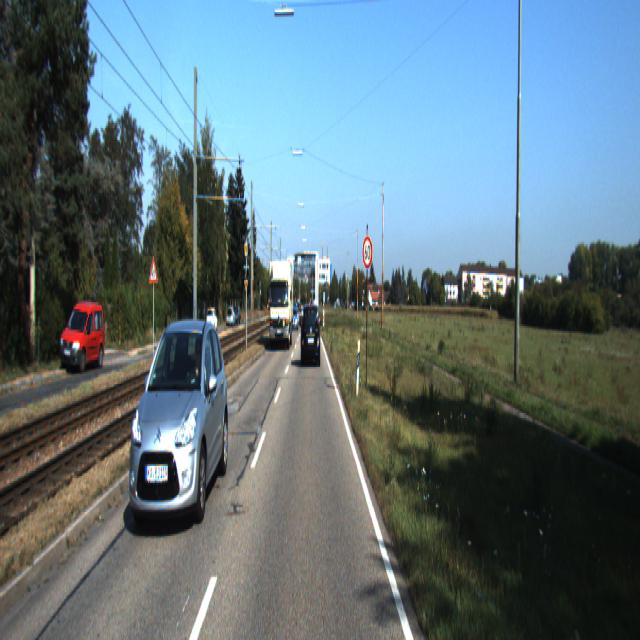Car: (128, 314, 232, 539), (60, 299, 105, 376), (270, 255, 294, 353), (301, 301, 321, 366), (206, 307, 218, 335), (290, 303, 300, 332)
